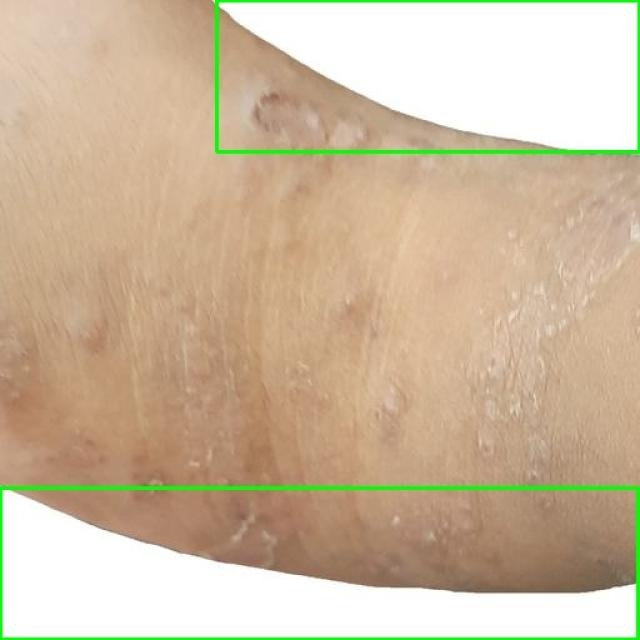Eczema: (0, 488, 639, 639), (216, 0, 639, 152)
